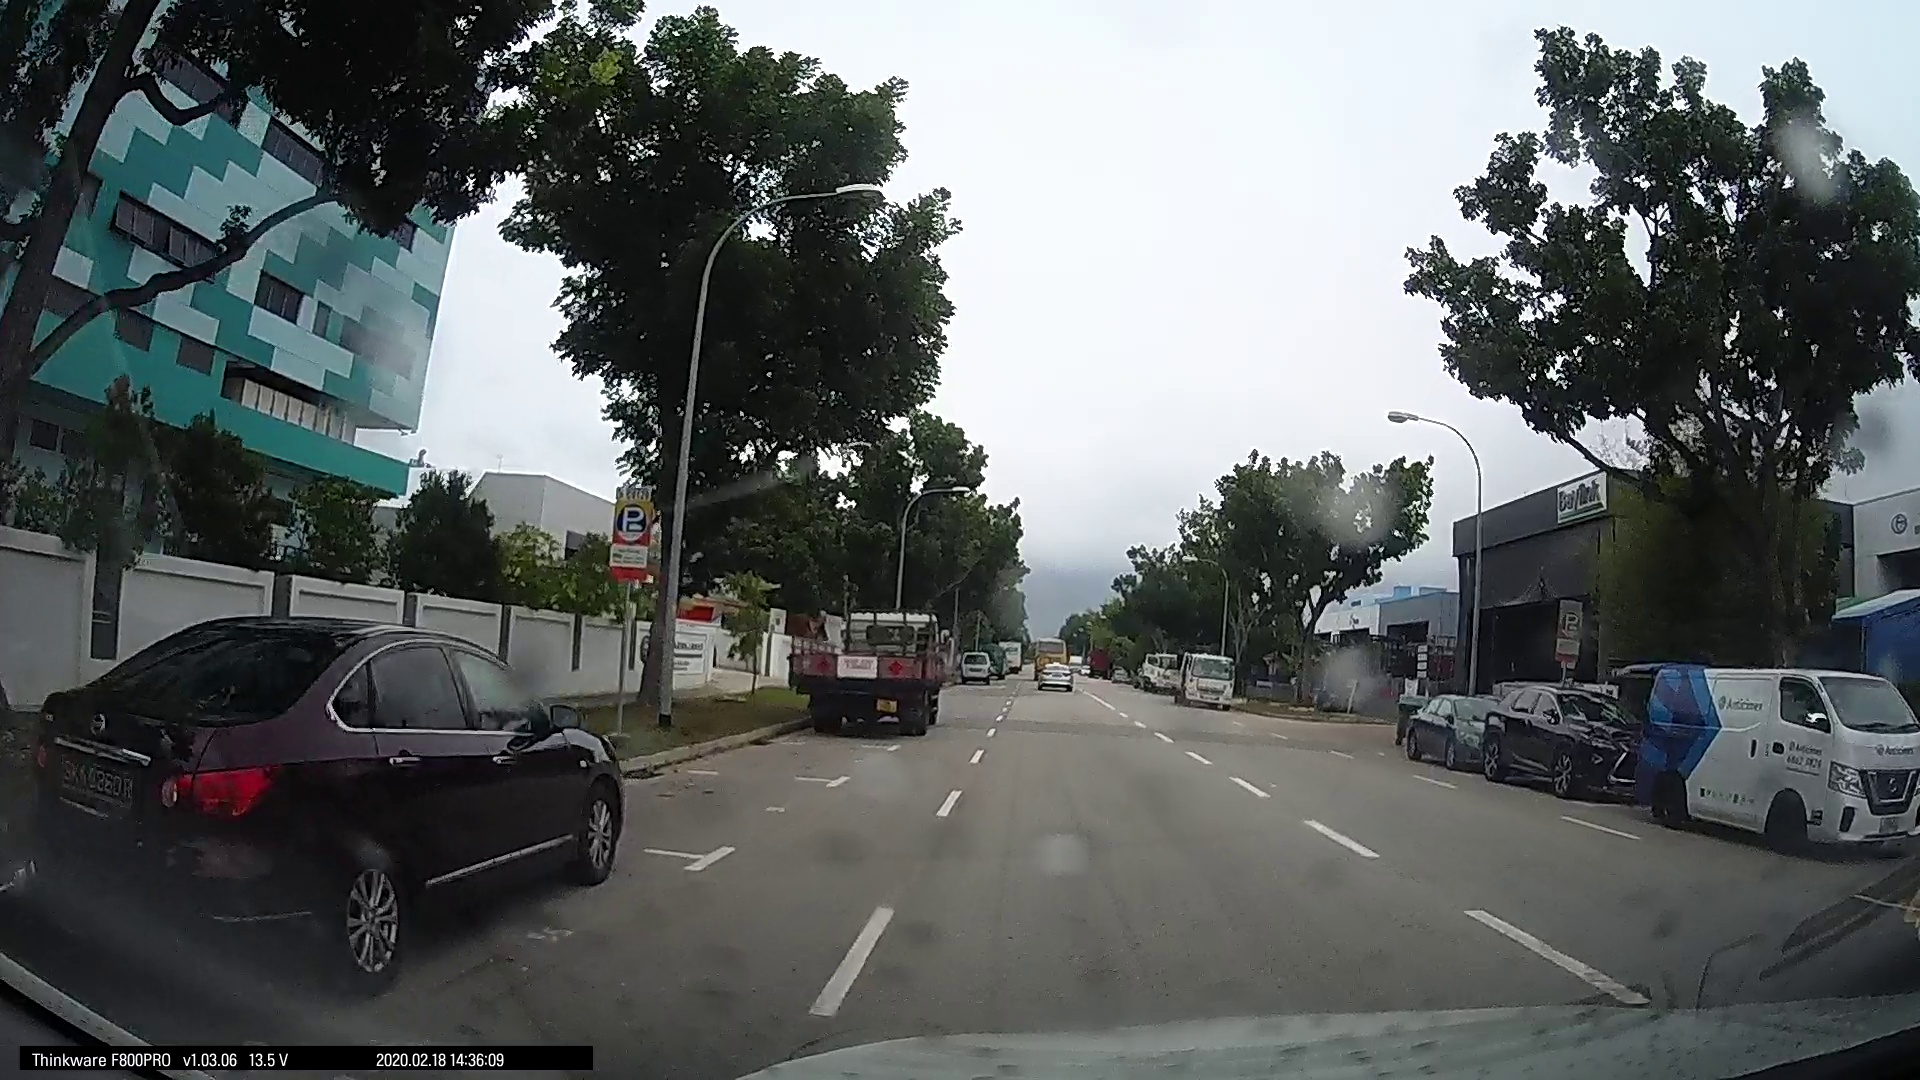Heavy Vehicle: (796, 603, 951, 735)
Light Vehicle: (12, 611, 636, 977), (1631, 655, 1917, 860), (1476, 680, 1642, 796), (1398, 688, 1491, 771), (1170, 649, 1234, 705), (1030, 647, 1073, 688), (956, 645, 996, 683)
